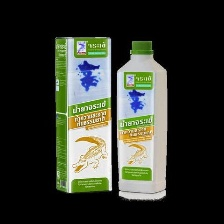book: (52, 34, 115, 195)
cleaning_solution: (114, 38, 169, 202)
